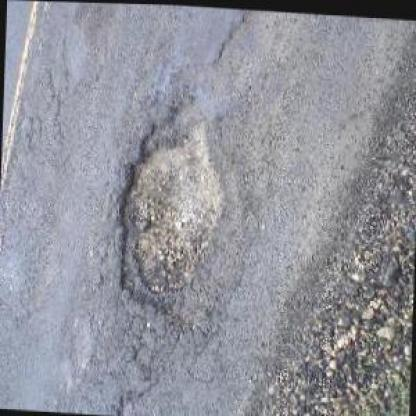pothole: (108, 89, 236, 327)
